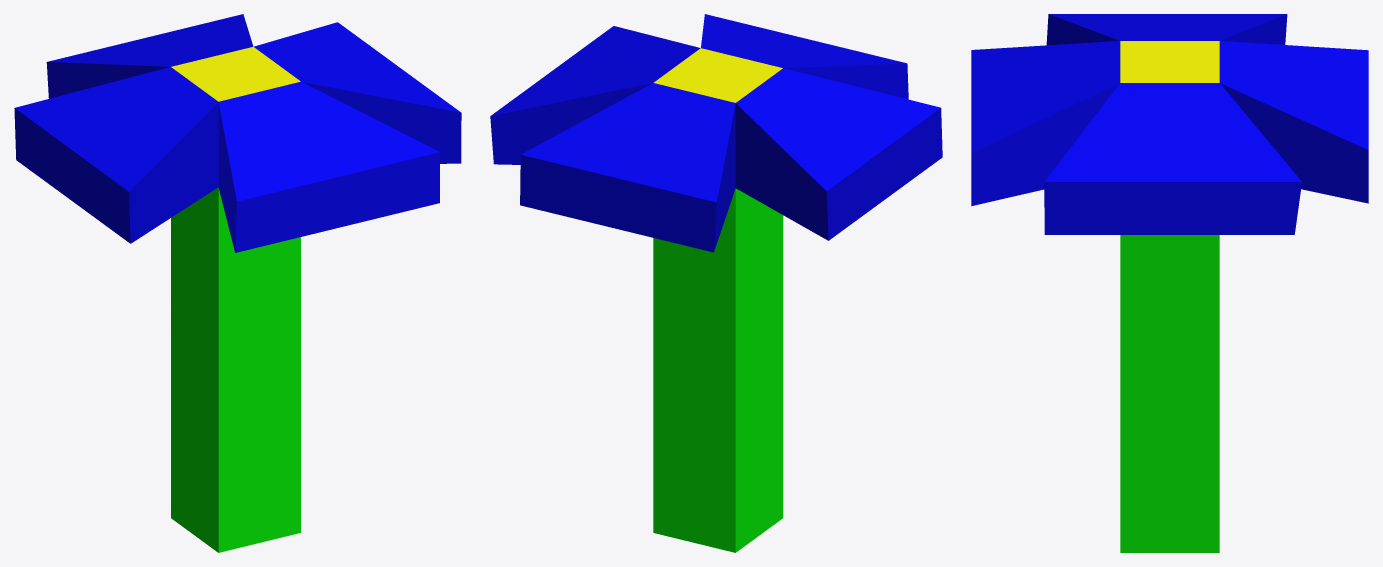
File: flower2.glb
3 views of the same model, side by side, from view 1: azimuth 30°, elevation 25°; view 2: azimuth 150°, elevation 25°; view 3: azimuth 270°, elevation 25° (orthographic). The views are drawn at different scales.
Visible parts, largest first — view 1: Flower; view 2: Flower; view 3: Flower.
Part boxes in pixels (bbox=[...]): Flower: bbox=[14, 14, 461, 552]; Flower: bbox=[490, 14, 942, 552]; Flower: bbox=[971, 14, 1368, 552].
Size of the model in its own units: 0.8 by 1.04 by 0.8.
1 material, 1 textured.
